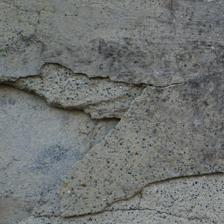Crack: (125, 24, 224, 194), (0, 7, 101, 118), (55, 5, 130, 117), (0, 17, 101, 70)
